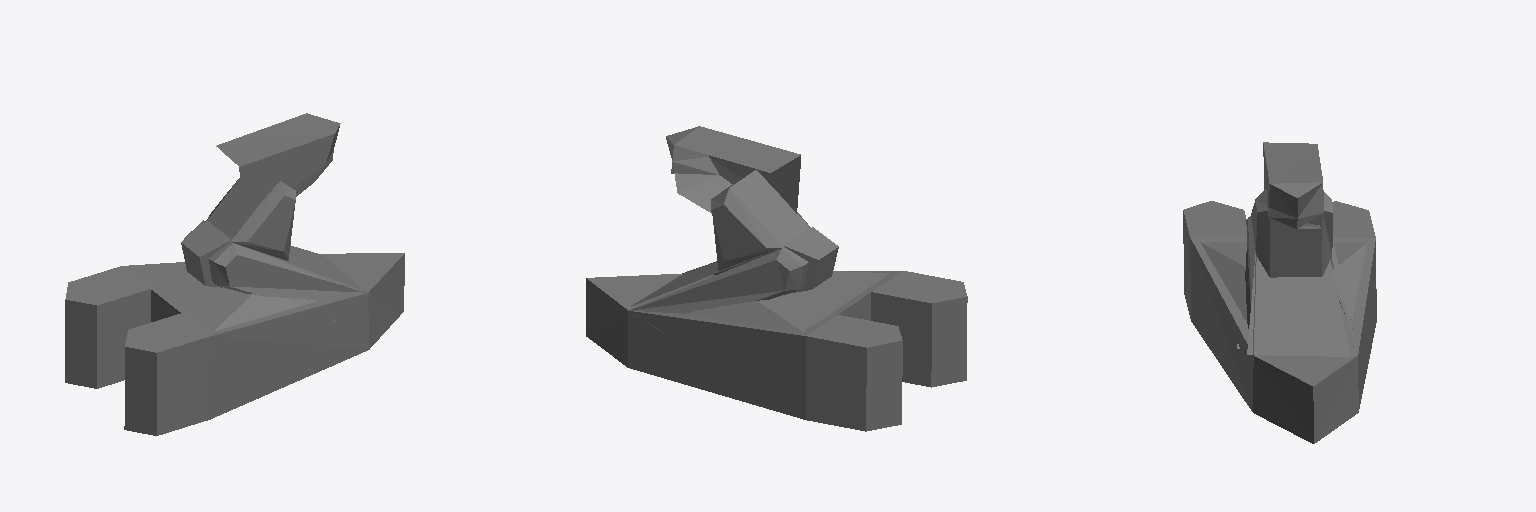
The model's file is foot.obj.
The picture shows the model from 3 angles: view 1: azimuth 30°, elevation 25°; view 2: azimuth 150°, elevation 25°; view 3: azimuth 270°, elevation 25°; orthographic projection.
Visible parts, largest first — view 1: default; view 2: default; view 3: default.
Part boxes in pixels (x1,y1,x2,y2): default: (65,113,404,435); default: (586,126,967,431); default: (1183,142,1376,443).
Size of the model in its own units: 1.02 by 0.6457 by 0.5189.